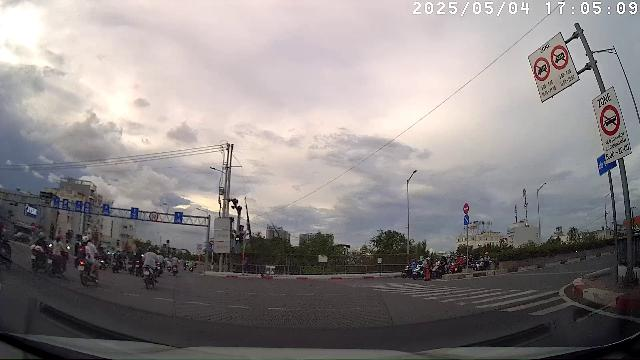102-cam-di-nguoc-chieu: (463, 203, 469, 214)
106-cam-oto-tai: (533, 56, 551, 81), (551, 45, 569, 70)
127-toc-do-toi-da-50: (149, 211, 159, 221)
302a-huong-phai-di-vong-chuong-ngai-vat-1: (463, 214, 470, 224)
